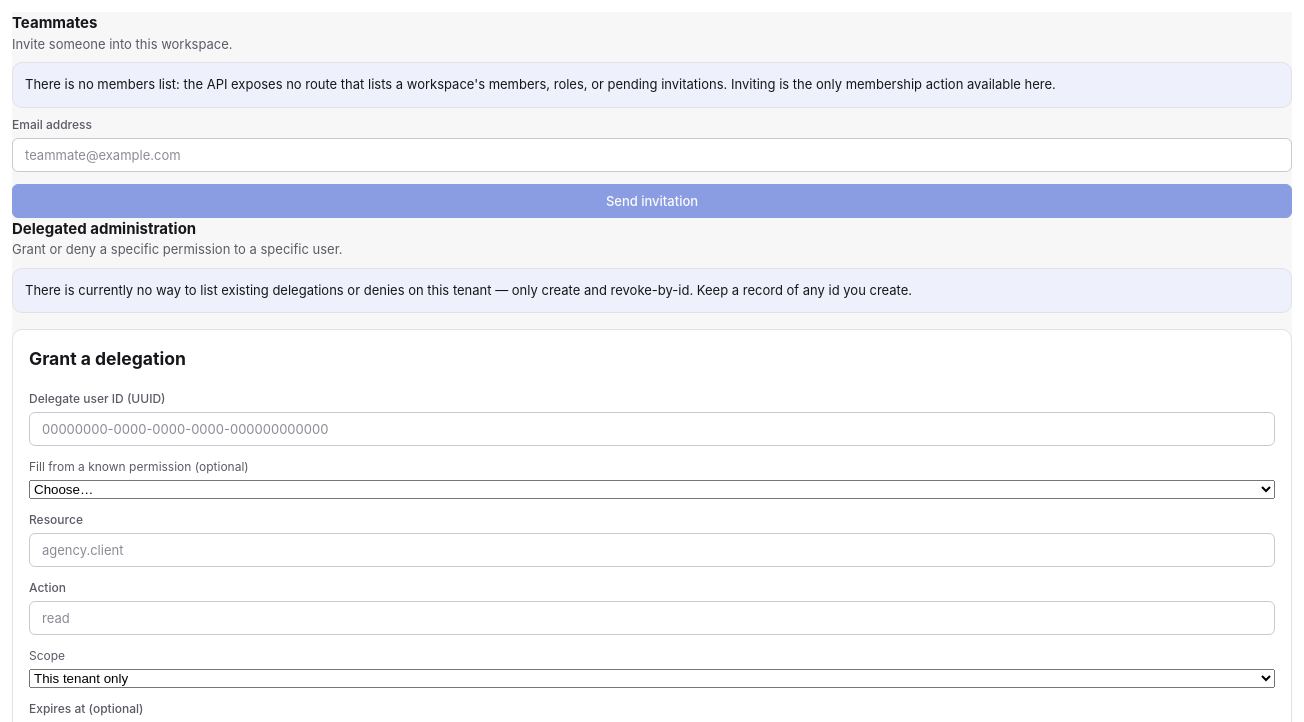
Test: AccessSettingsPanel › surfaces a mutation failure without claiming the invite was sent
Type "new@example.com" into the field labelled "Email address" at [652, 154], box x1=12 y1=138 x2=1292 y2=172
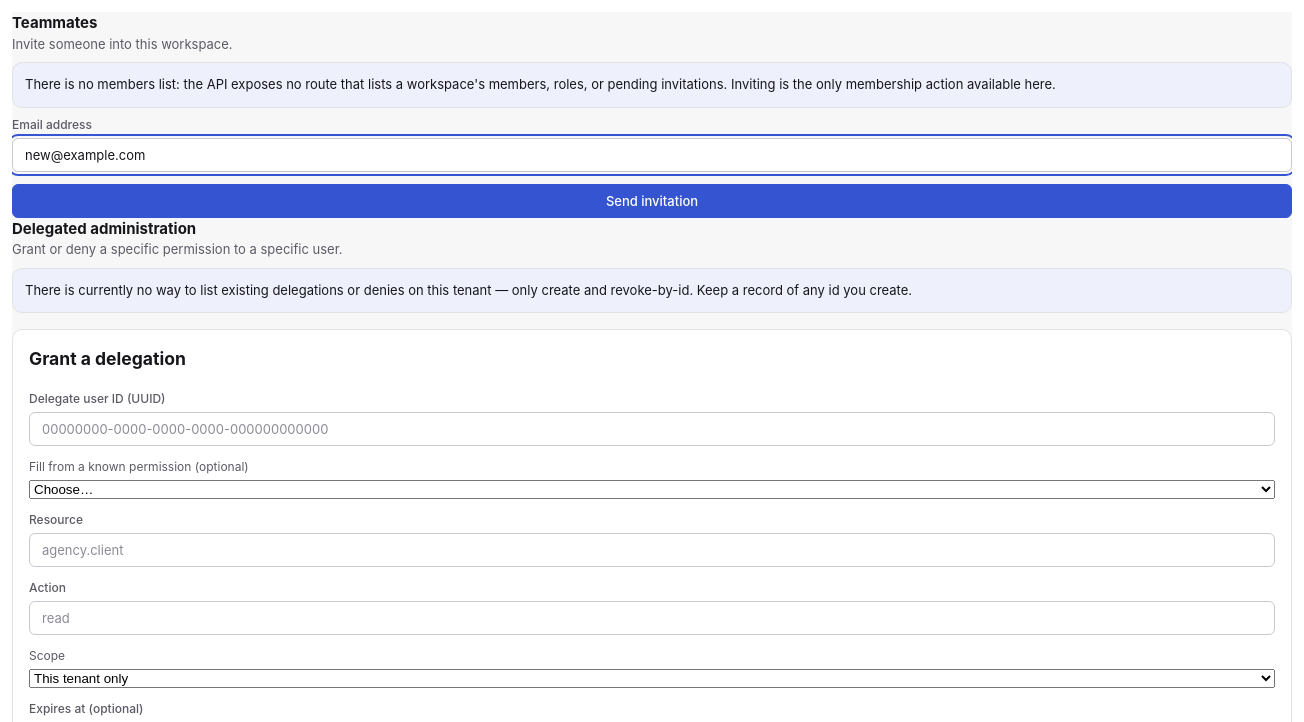
Click the button "Send invitation" at [652, 200], box x1=12 y1=184 x2=1292 y2=218
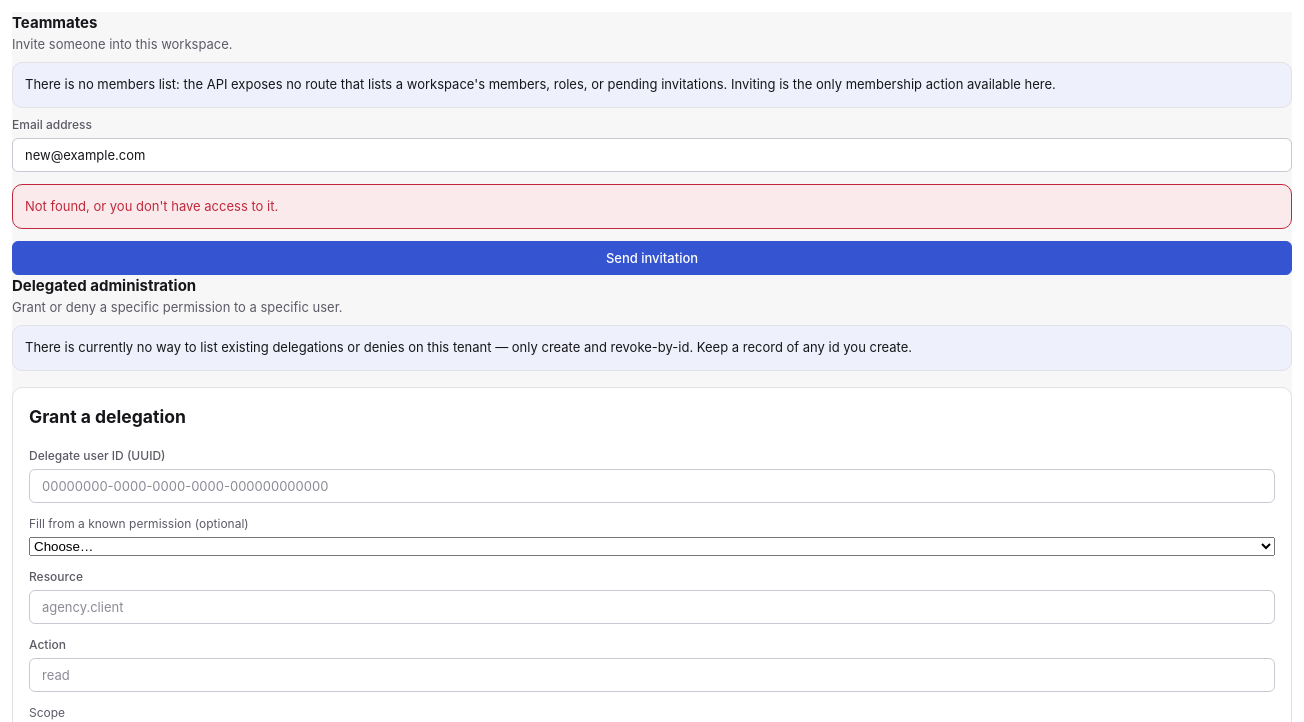
Check: the text "Not found, or you don't have access to it." is shown, box x1=25 y1=198 x2=278 y2=214
